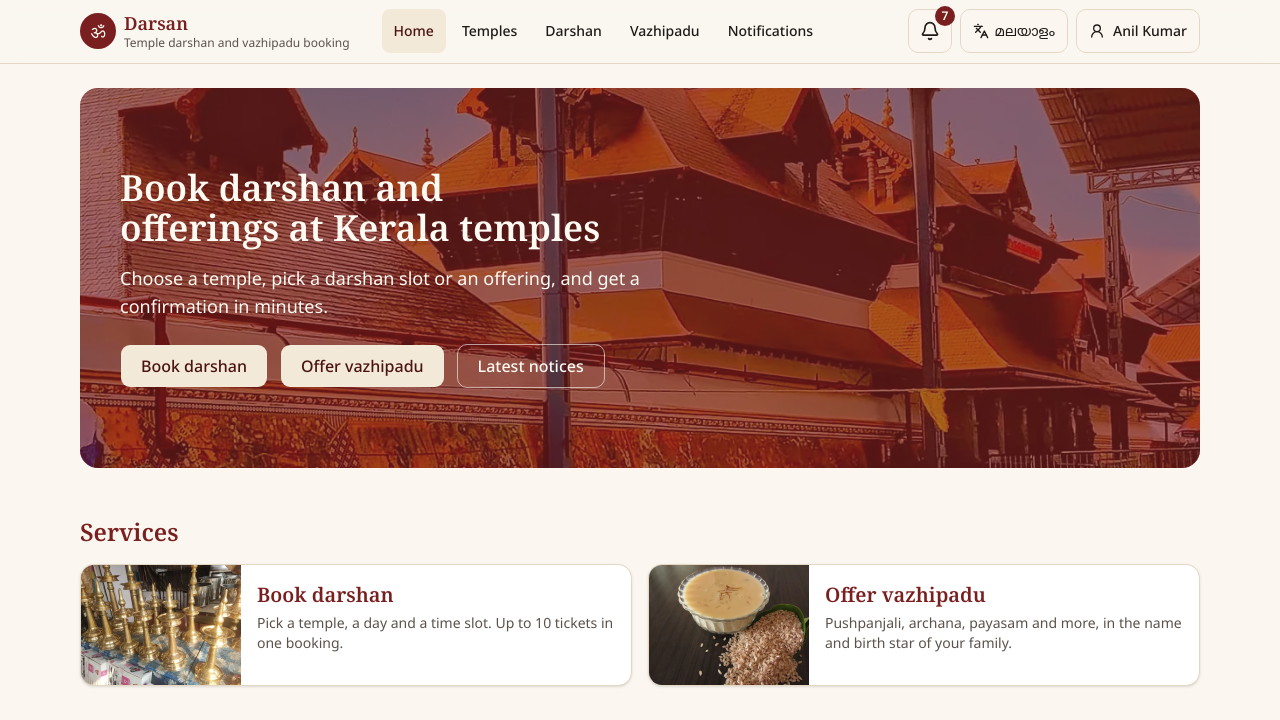
Session › logging out clears the user and the saved session
Click the button with aria-label "Account menu for Anil Kumar" at (1138, 31), box top-left (1076, 9), bottom-right (1200, 53)
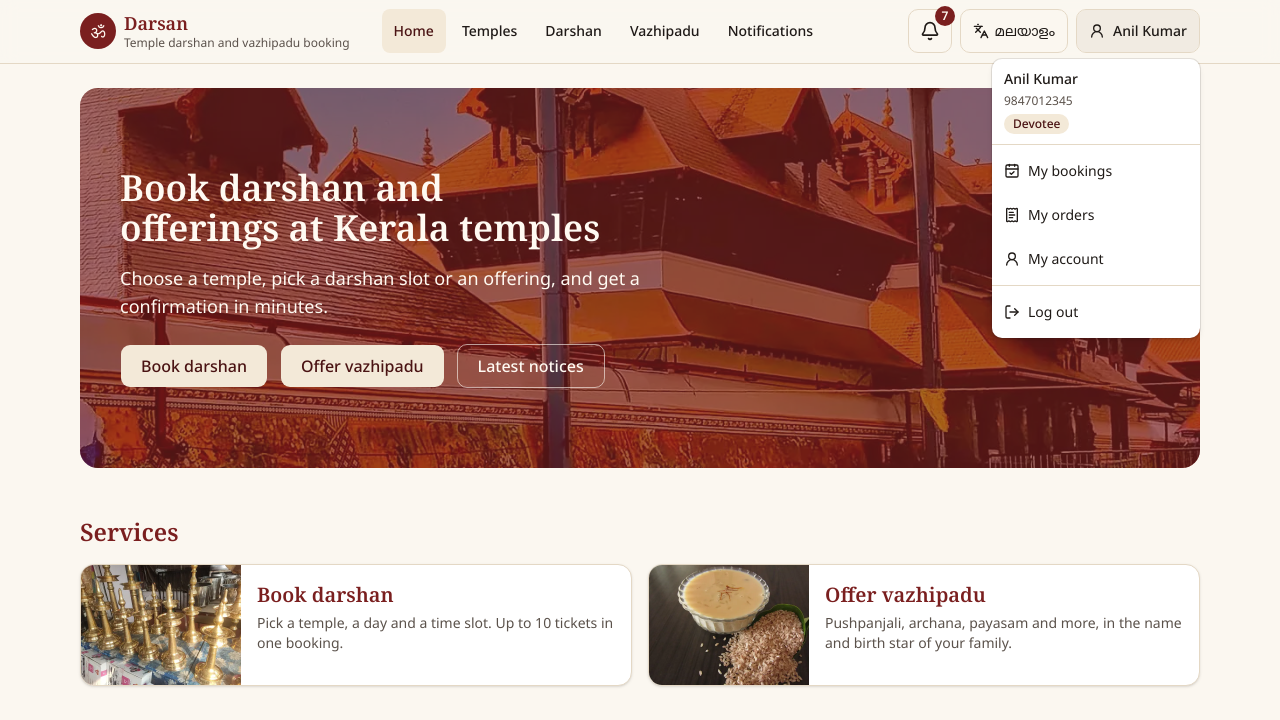
Click the menu item "Log out" at (1041, 312), box top-left (1004, 302), bottom-right (1078, 321)
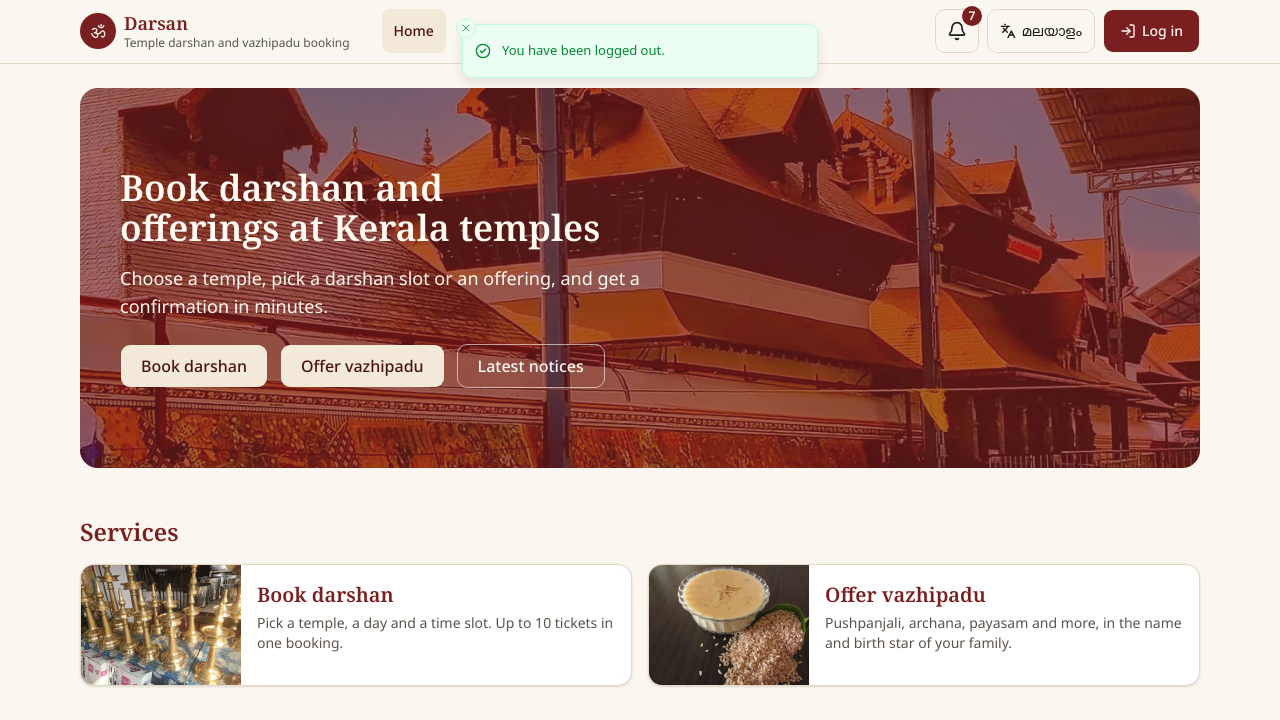
Check: the link "Log in" is shown, box top-left (1103, 9), bottom-right (1200, 53)
